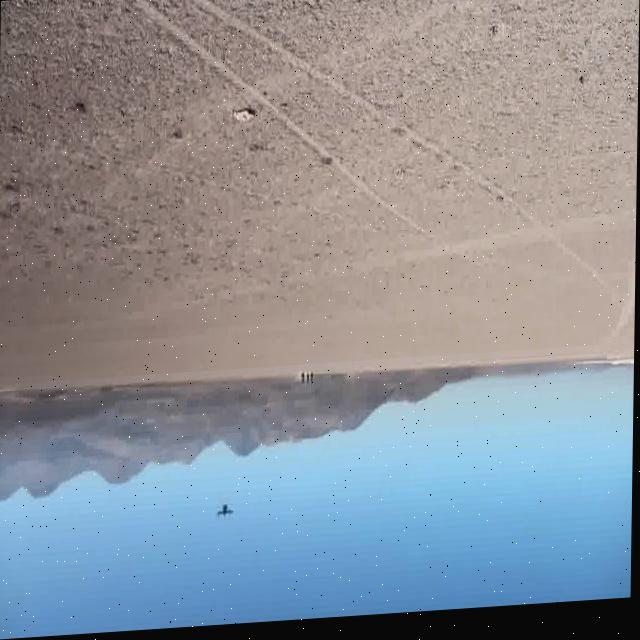drone: (216, 503, 236, 527)
